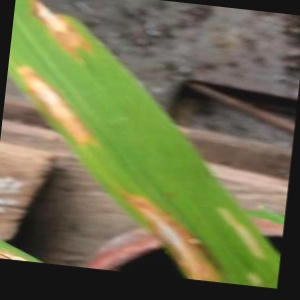Brown_Spot: (4, 60, 107, 155), (118, 188, 231, 274), (21, 0, 104, 57)
